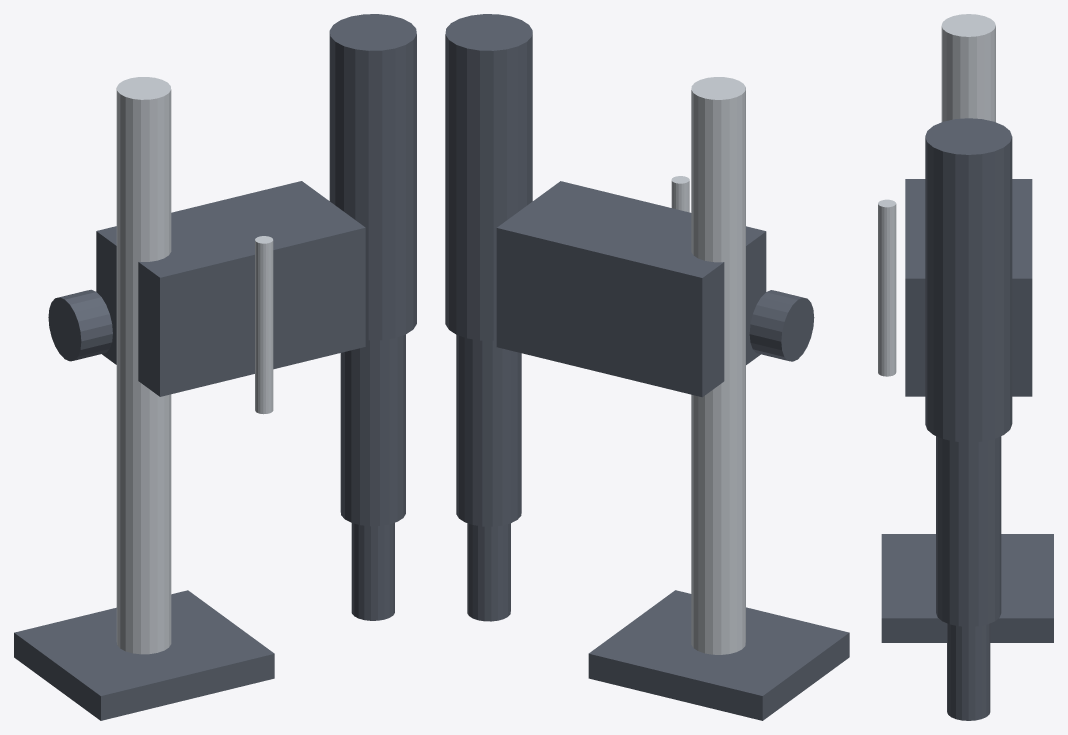
File: chip-microscope-body-v1.glb
3 views of the same model, side by side, from view 1: azimuth 30°, elevation 25°; view 2: azimuth 150°, elevation 25°; view 3: azimuth 270°, elevation 25° (orthographic).
Parts seen in each view (by area): view 1: black focus carriage, silver support post, black microscope tube, black support foot, black lower tube, black objective, black focus knob, silver focus screw; view 2: black focus carriage, silver support post, black microscope tube, black support foot, black lower tube, black objective, black focus knob, silver focus screw; view 3: black microscope tube, black support foot, black lower tube, black focus carriage, silver support post, black objective, silver focus screw.
Part boxes in pixels (left/top/right/bottom): black focus carriage: left=96, top=181, right=365, bottom=396; silver support post: left=116, top=77, right=171, bottom=654; black microscope tube: left=329, top=14, right=416, bottom=340; black support foot: left=14, top=590, right=274, bottom=720; black lower tube: left=340, top=334, right=405, bottom=526; black objective: left=351, top=522, right=394, bottom=620; black focus knob: left=48, top=289, right=112, bottom=361; silver focus screw: left=255, top=236, right=273, bottom=414; black focus carriage: left=496, top=181, right=766, bottom=397; silver support post: left=691, top=77, right=745, bottom=654; black microscope tube: left=445, top=14, right=532, bottom=340; black support foot: left=588, top=590, right=849, bottom=720; black lower tube: left=456, top=335, right=521, bottom=526; black objective: left=467, top=523, right=510, bottom=621; black focus knob: left=749, top=290, right=814, bottom=361; silver focus screw: left=671, top=176, right=689, bottom=212; black microscope tube: left=925, top=118, right=1012, bottom=442; black support foot: left=881, top=534, right=1053, bottom=642; black lower tube: left=936, top=436, right=1001, bottom=626; black focus carriage: left=905, top=179, right=1032, bottom=396; silver support post: left=941, top=14, right=995, bottom=122; black objective: left=947, top=623, right=990, bottom=720; silver focus screw: left=878, top=199, right=896, bottom=376.
Bounding box in the file's own units: 0.224 × 0.35 × 0.097.
